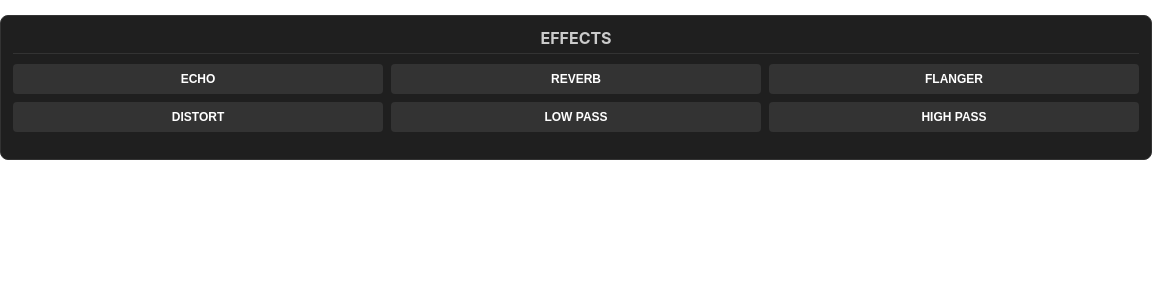
Test: AudioEffects Component › shows feedback control only for echo and reverb effects
// Click on ECHO effect
Click the button "ECHO": point(198, 79) [13,64,383,94]
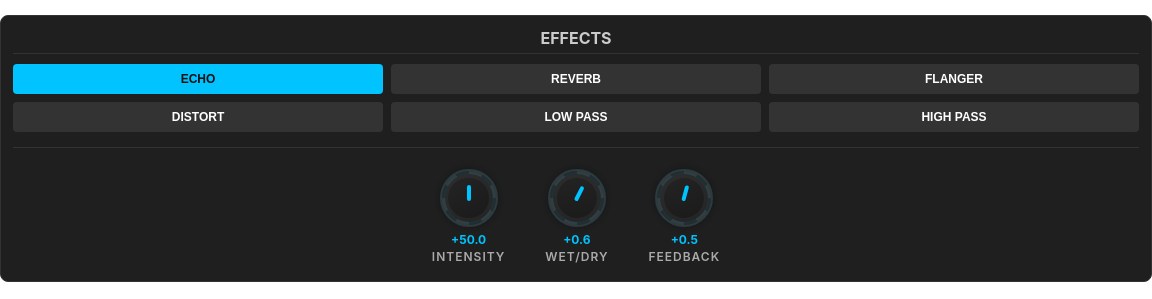
Expected: the text "FEEDBACK" is shown, [648,249,720,264]
// Switch to REVERB effect
Click the button "REVERB": point(576, 79) [391,64,761,94]
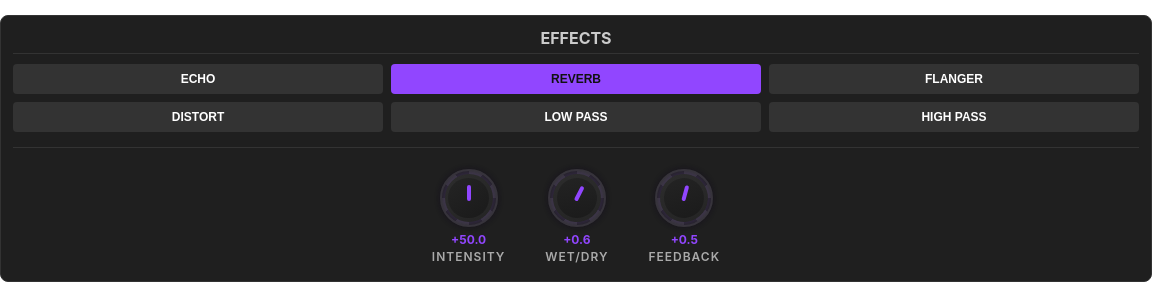
Expected: the text "FEEDBACK" is shown, [648,249,720,264]
// Switch to FLANGER effect
Click the button "FLANGER": point(954, 79) [769,64,1139,94]
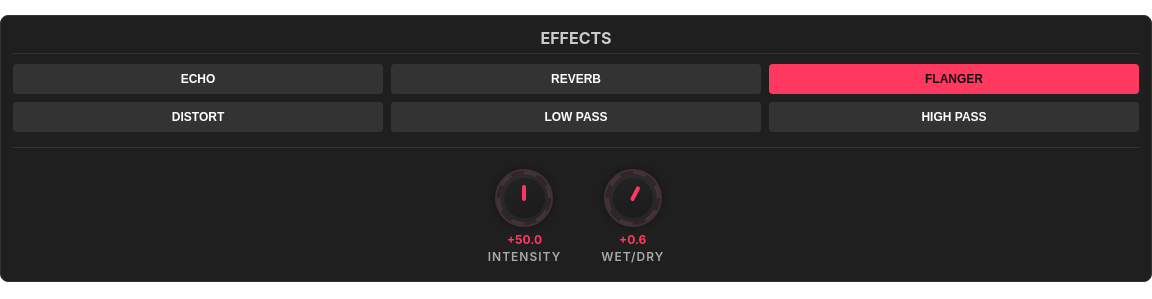
Expected: the text "FEEDBACK" is gone
